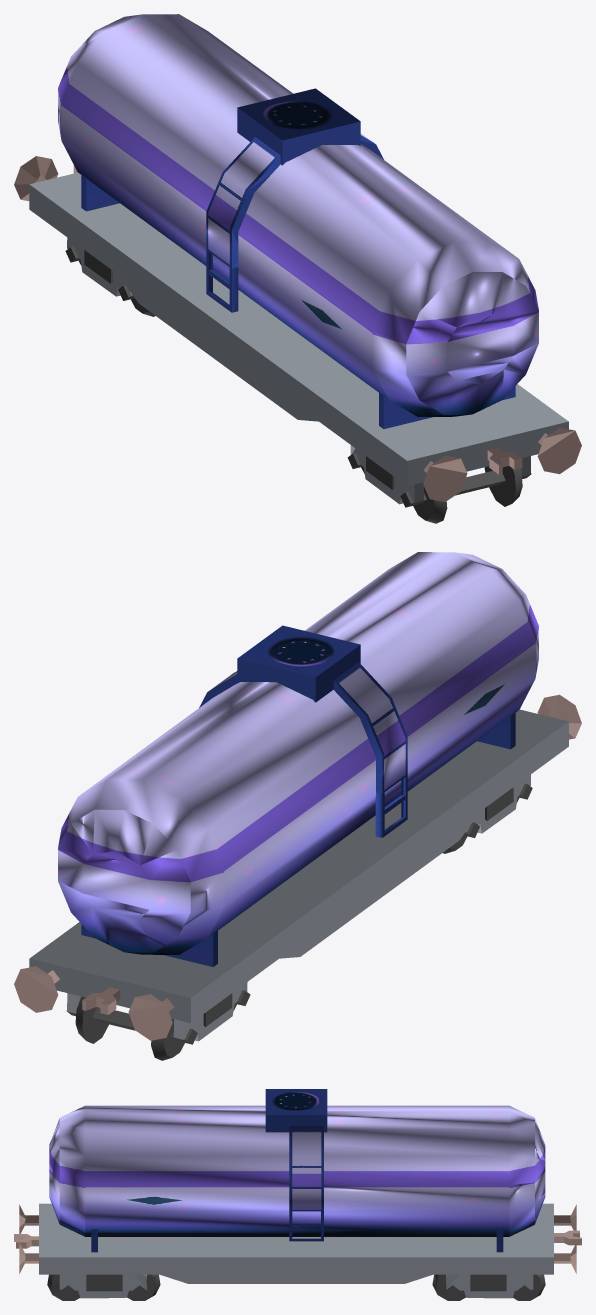
Rendered from tankcarpurple.dae.
3 renders of one model, top to bottom at view 1: azimuth 30°, elevation 25°; view 2: azimuth 150°, elevation 25°; view 3: azimuth 270°, elevation 25°, orthographic. The views are drawn at different scales.
Parts seen in each view (by area): view 1: 9.0.242.0_Pts_Material__4__Surf, 9.0.242.0_Pts_Material_Surf, 9.0.242.0_Pts_Material__3__Surf, 9.0.242.0_Pts_Material__2__Surf; view 2: 9.0.242.0_Pts_Material__4__Surf, 9.0.242.0_Pts_Material_Surf, 9.0.242.0_Pts_Material__3__Surf, 9.0.242.0_Pts_Material__2__Surf; view 3: 9.0.242.0_Pts_Material__4__Surf, 9.0.242.0_Pts_Material_Surf, 9.0.242.0_Pts_Material__2__Surf, 9.0.242.0_Pts_Material__3__Surf.
Boxes of the visible parts, x1,y1,x2,y2 form: 9.0.242.0_Pts_Material__4__Surf: [58, 14, 538, 428]; 9.0.242.0_Pts_Material_Surf: [29, 172, 568, 504]; 9.0.242.0_Pts_Material__3__Surf: [14, 156, 581, 501]; 9.0.242.0_Pts_Material__2__Surf: [65, 246, 531, 523]; 9.0.242.0_Pts_Material__4__Surf: [58, 552, 538, 966]; 9.0.242.0_Pts_Material_Surf: [29, 709, 568, 1041]; 9.0.242.0_Pts_Material__3__Surf: [14, 694, 581, 1040]; 9.0.242.0_Pts_Material__2__Surf: [66, 783, 532, 1060]; 9.0.242.0_Pts_Material__4__Surf: [49, 1089, 545, 1252]; 9.0.242.0_Pts_Material_Surf: [39, 1203, 553, 1298]; 9.0.242.0_Pts_Material__2__Surf: [47, 1274, 545, 1300]; 9.0.242.0_Pts_Material__3__Surf: [14, 1204, 581, 1273].
Size of the model in its own units: 3.49 by 5.22 by 14.32.
